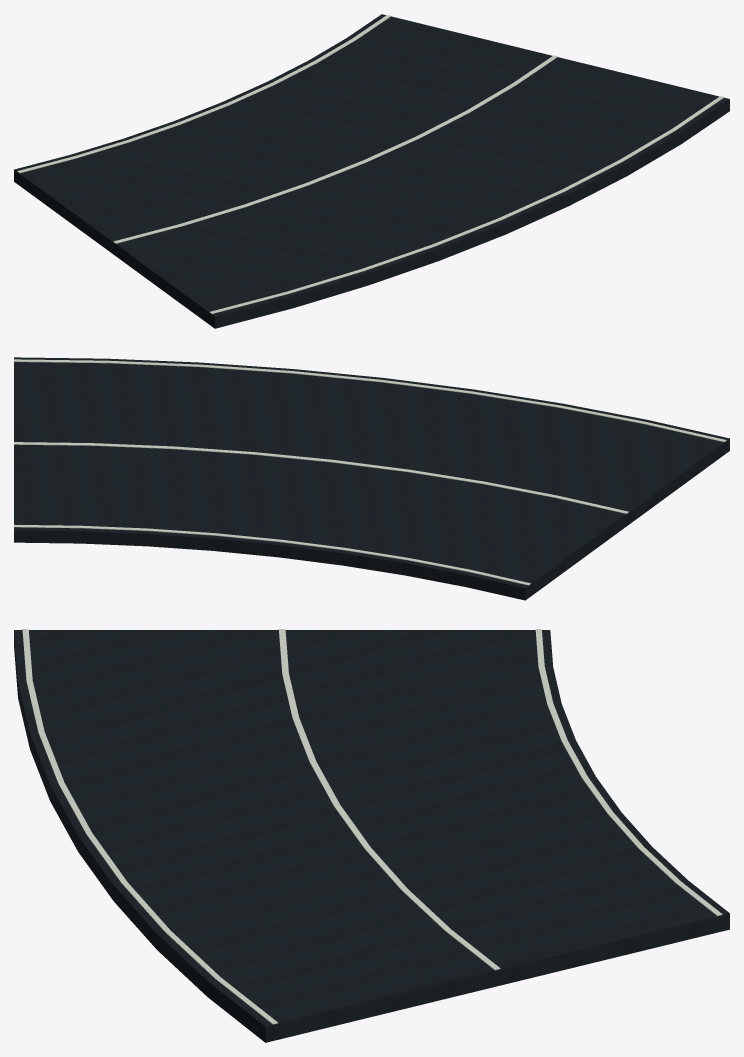
Rendered from Transit_Road_2L_Curve30_R18.glb.
3 views of the same model, one above another, from view 1: azimuth 30°, elevation 25°; view 2: azimuth 150°, elevation 25°; view 3: azimuth 270°, elevation 25° (orthographic). The views are drawn at different scales.
Parts seen in each view (by area): view 1: Transit_Road_2L_Curve30_R18_Surface, Transit_Road_2L_Curve30_R18_MarkEdge-1, Transit_Road_2L_Curve30_R18_MarkLane1, Transit_Road_2L_Curve30_R18_MarkEdge+1; view 2: Transit_Road_2L_Curve30_R18_Surface, Transit_Road_2L_Curve30_R18_MarkEdge-1, Transit_Road_2L_Curve30_R18_MarkLane1, Transit_Road_2L_Curve30_R18_MarkEdge+1; view 3: Transit_Road_2L_Curve30_R18_Surface, Transit_Road_2L_Curve30_R18_MarkEdge-1, Transit_Road_2L_Curve30_R18_MarkLane1, Transit_Road_2L_Curve30_R18_MarkEdge+1.
Boxes of the visible parts, x1,y1,x2,y2 form: Transit_Road_2L_Curve30_R18_Surface: [14, 14, 729, 328]; Transit_Road_2L_Curve30_R18_MarkEdge-1: [209, 96, 724, 313]; Transit_Road_2L_Curve30_R18_MarkLane1: [113, 55, 557, 243]; Transit_Road_2L_Curve30_R18_MarkEdge+1: [17, 15, 390, 173]; Transit_Road_2L_Curve30_R18_Surface: [14, 357, 729, 600]; Transit_Road_2L_Curve30_R18_MarkEdge-1: [14, 359, 726, 442]; Transit_Road_2L_Curve30_R18_MarkLane1: [14, 442, 628, 513]; Transit_Road_2L_Curve30_R18_MarkEdge+1: [14, 524, 530, 585]; Transit_Road_2L_Curve30_R18_Surface: [14, 630, 729, 1042]; Transit_Road_2L_Curve30_R18_MarkEdge-1: [22, 629, 277, 1024]; Transit_Road_2L_Curve30_R18_MarkLane1: [278, 629, 500, 970]; Transit_Road_2L_Curve30_R18_MarkEdge+1: [535, 629, 722, 916].
Size of the model in its own units: 10.5 by 0.212 by 8.01.
Materials: 2 (1 with a texture image).
